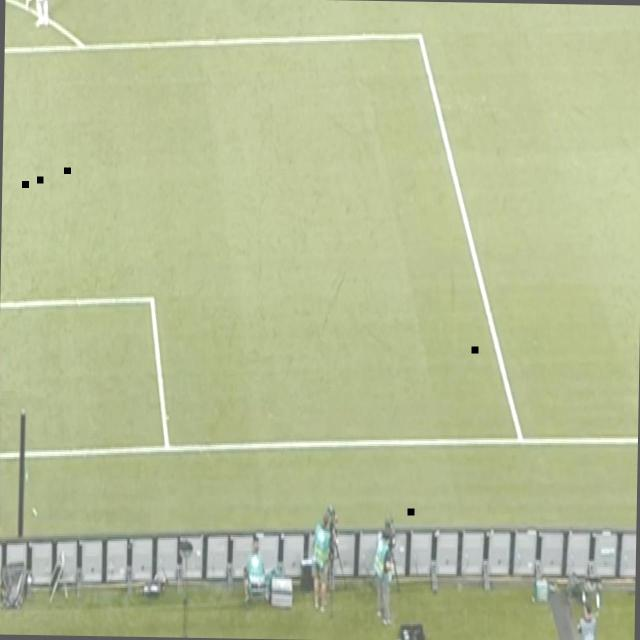player-white: (32, 0, 50, 30), (12, 0, 41, 16)
